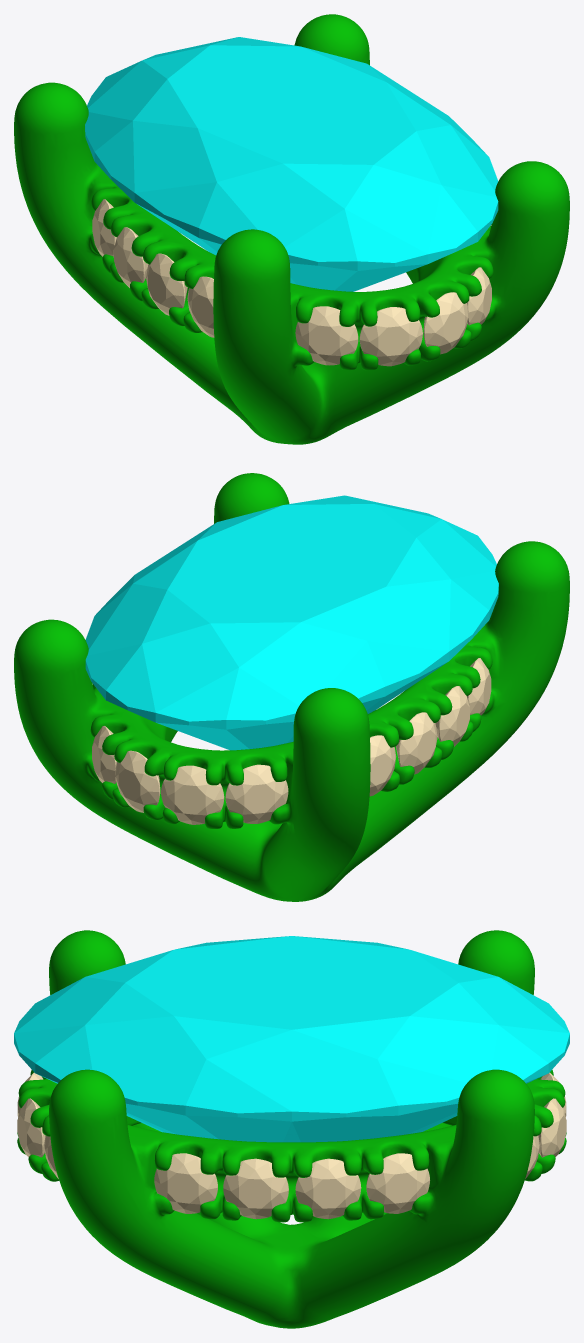
The picture shows the model from 3 angles, top to bottom: view 1: azimuth 30°, elevation 25°; view 2: azimuth 150°, elevation 25°; view 3: azimuth 270°, elevation 25°; orthographic projection. The views are drawn at different scales.
Visible parts, largest first — view 1: Diamond_Oval, Metal01, Diamond_Round.001, Diamond_Round, Diamond_Round.002, Diamond_Round.013, Diamond_Round.014, Diamond_Round.012, Diamond_Round.003, Diamond_Round.015; view 2: Diamond_Oval, Metal01, Diamond_Round.005, Diamond_Round.004, Diamond_Round.006, Diamond_Round.014, Diamond_Round.013, Diamond_Round.015, Diamond_Round.007, Diamond_Round.012; view 3: Diamond_Oval, Metal01, Diamond_Round.009, Diamond_Round.010, Diamond_Round.008, Diamond_Round.011, Diamond_Round.002, Diamond_Round.006.
Part boxes in pixels (x1,y1,x2,y2): Diamond_Oval: (85, 37, 498, 291); Metal01: (14, 14, 569, 444); Diamond_Round.001: (359, 307, 422, 366); Diamond_Round: (295, 306, 358, 365); Diamond_Round.002: (423, 292, 468, 354); Diamond_Round.013: (146, 253, 187, 315); Diamond_Round.014: (113, 227, 148, 287); Diamond_Round.012: (187, 276, 214, 337); Diamond_Round.003: (467, 267, 491, 325); Diamond_Round.015: (92, 199, 116, 256); Diamond_Oval: (85, 495, 498, 750); Metal01: (14, 473, 569, 901); Diamond_Round.005: (161, 765, 224, 824); Diamond_Round.004: (225, 764, 288, 823); Diamond_Round.006: (115, 750, 160, 812); Diamond_Round.014: (396, 712, 437, 774); Diamond_Round.013: (435, 686, 469, 746); Diamond_Round.015: (369, 735, 396, 796); Diamond_Round.007: (92, 726, 116, 783); Diamond_Round.012: (467, 658, 491, 715); Diamond_Oval: (14, 936, 569, 1142); Metal01: (17, 930, 566, 1328); Diamond_Round.009: (223, 1158, 288, 1219); Diamond_Round.010: (295, 1158, 361, 1219); Diamond_Round.008: (154, 1153, 217, 1213); Diamond_Round.011: (366, 1153, 429, 1213); Diamond_Round.002: (17, 1098, 45, 1157); Diamond_Round.006: (538, 1098, 566, 1157).
Size of the model in its own units: 6.81 by 6.16 by 9.29.
